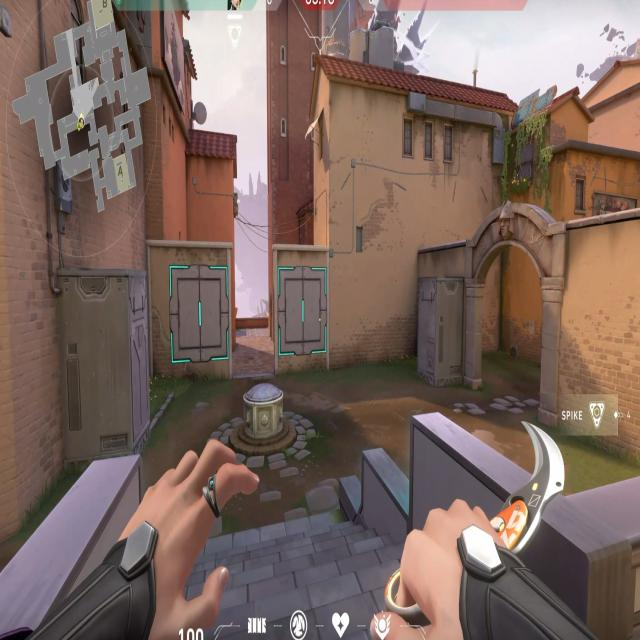Mid_Wall: (164, 248, 237, 376), (269, 243, 335, 372)
